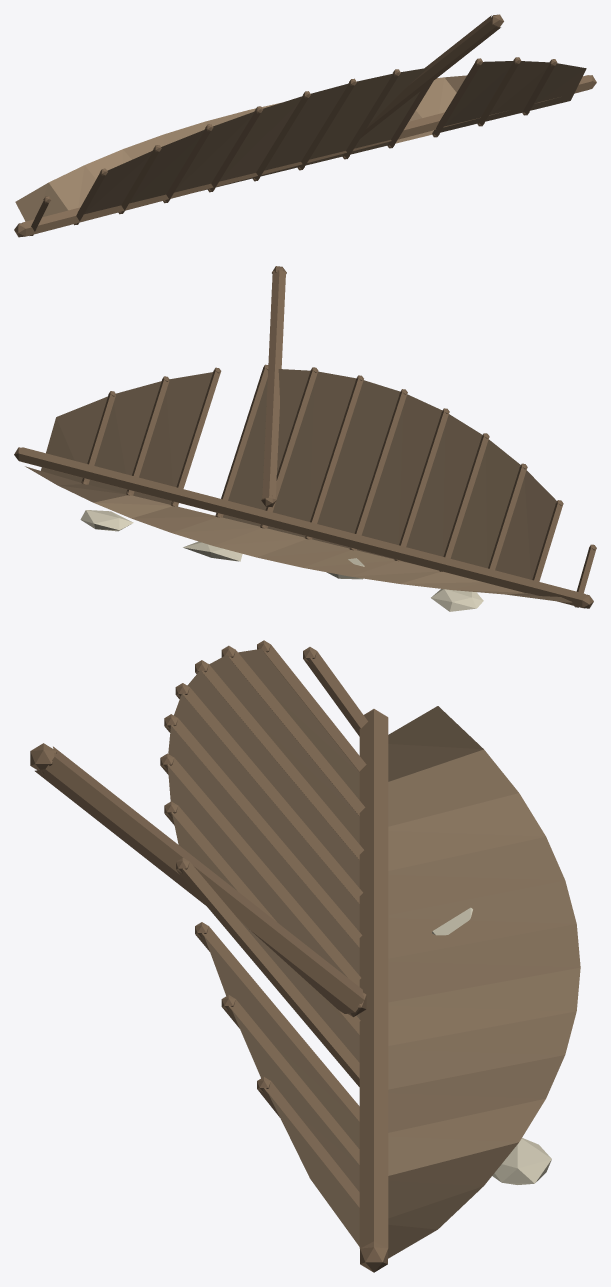
The model's file is wreck.glb.
The picture shows the model from 3 angles, top to bottom: view 1: azimuth 30°, elevation 25°; view 2: azimuth 150°, elevation 25°; view 3: azimuth 270°, elevation 25°; orthographic projection. The views are drawn at different scales.
Parts seen in each view (by area): view 1: wreck; view 2: wreck; view 3: wreck.
Part boxes in pixels (x1=…): wreck: x1=14, y1=14, x2=596, y2=237; wreck: x1=14, y1=266, x2=596, y2=611; wreck: x1=30, y1=640, x2=580, y2=1272.
Size of the model in its own units: 12.87 by 4.04 by 5.33.
